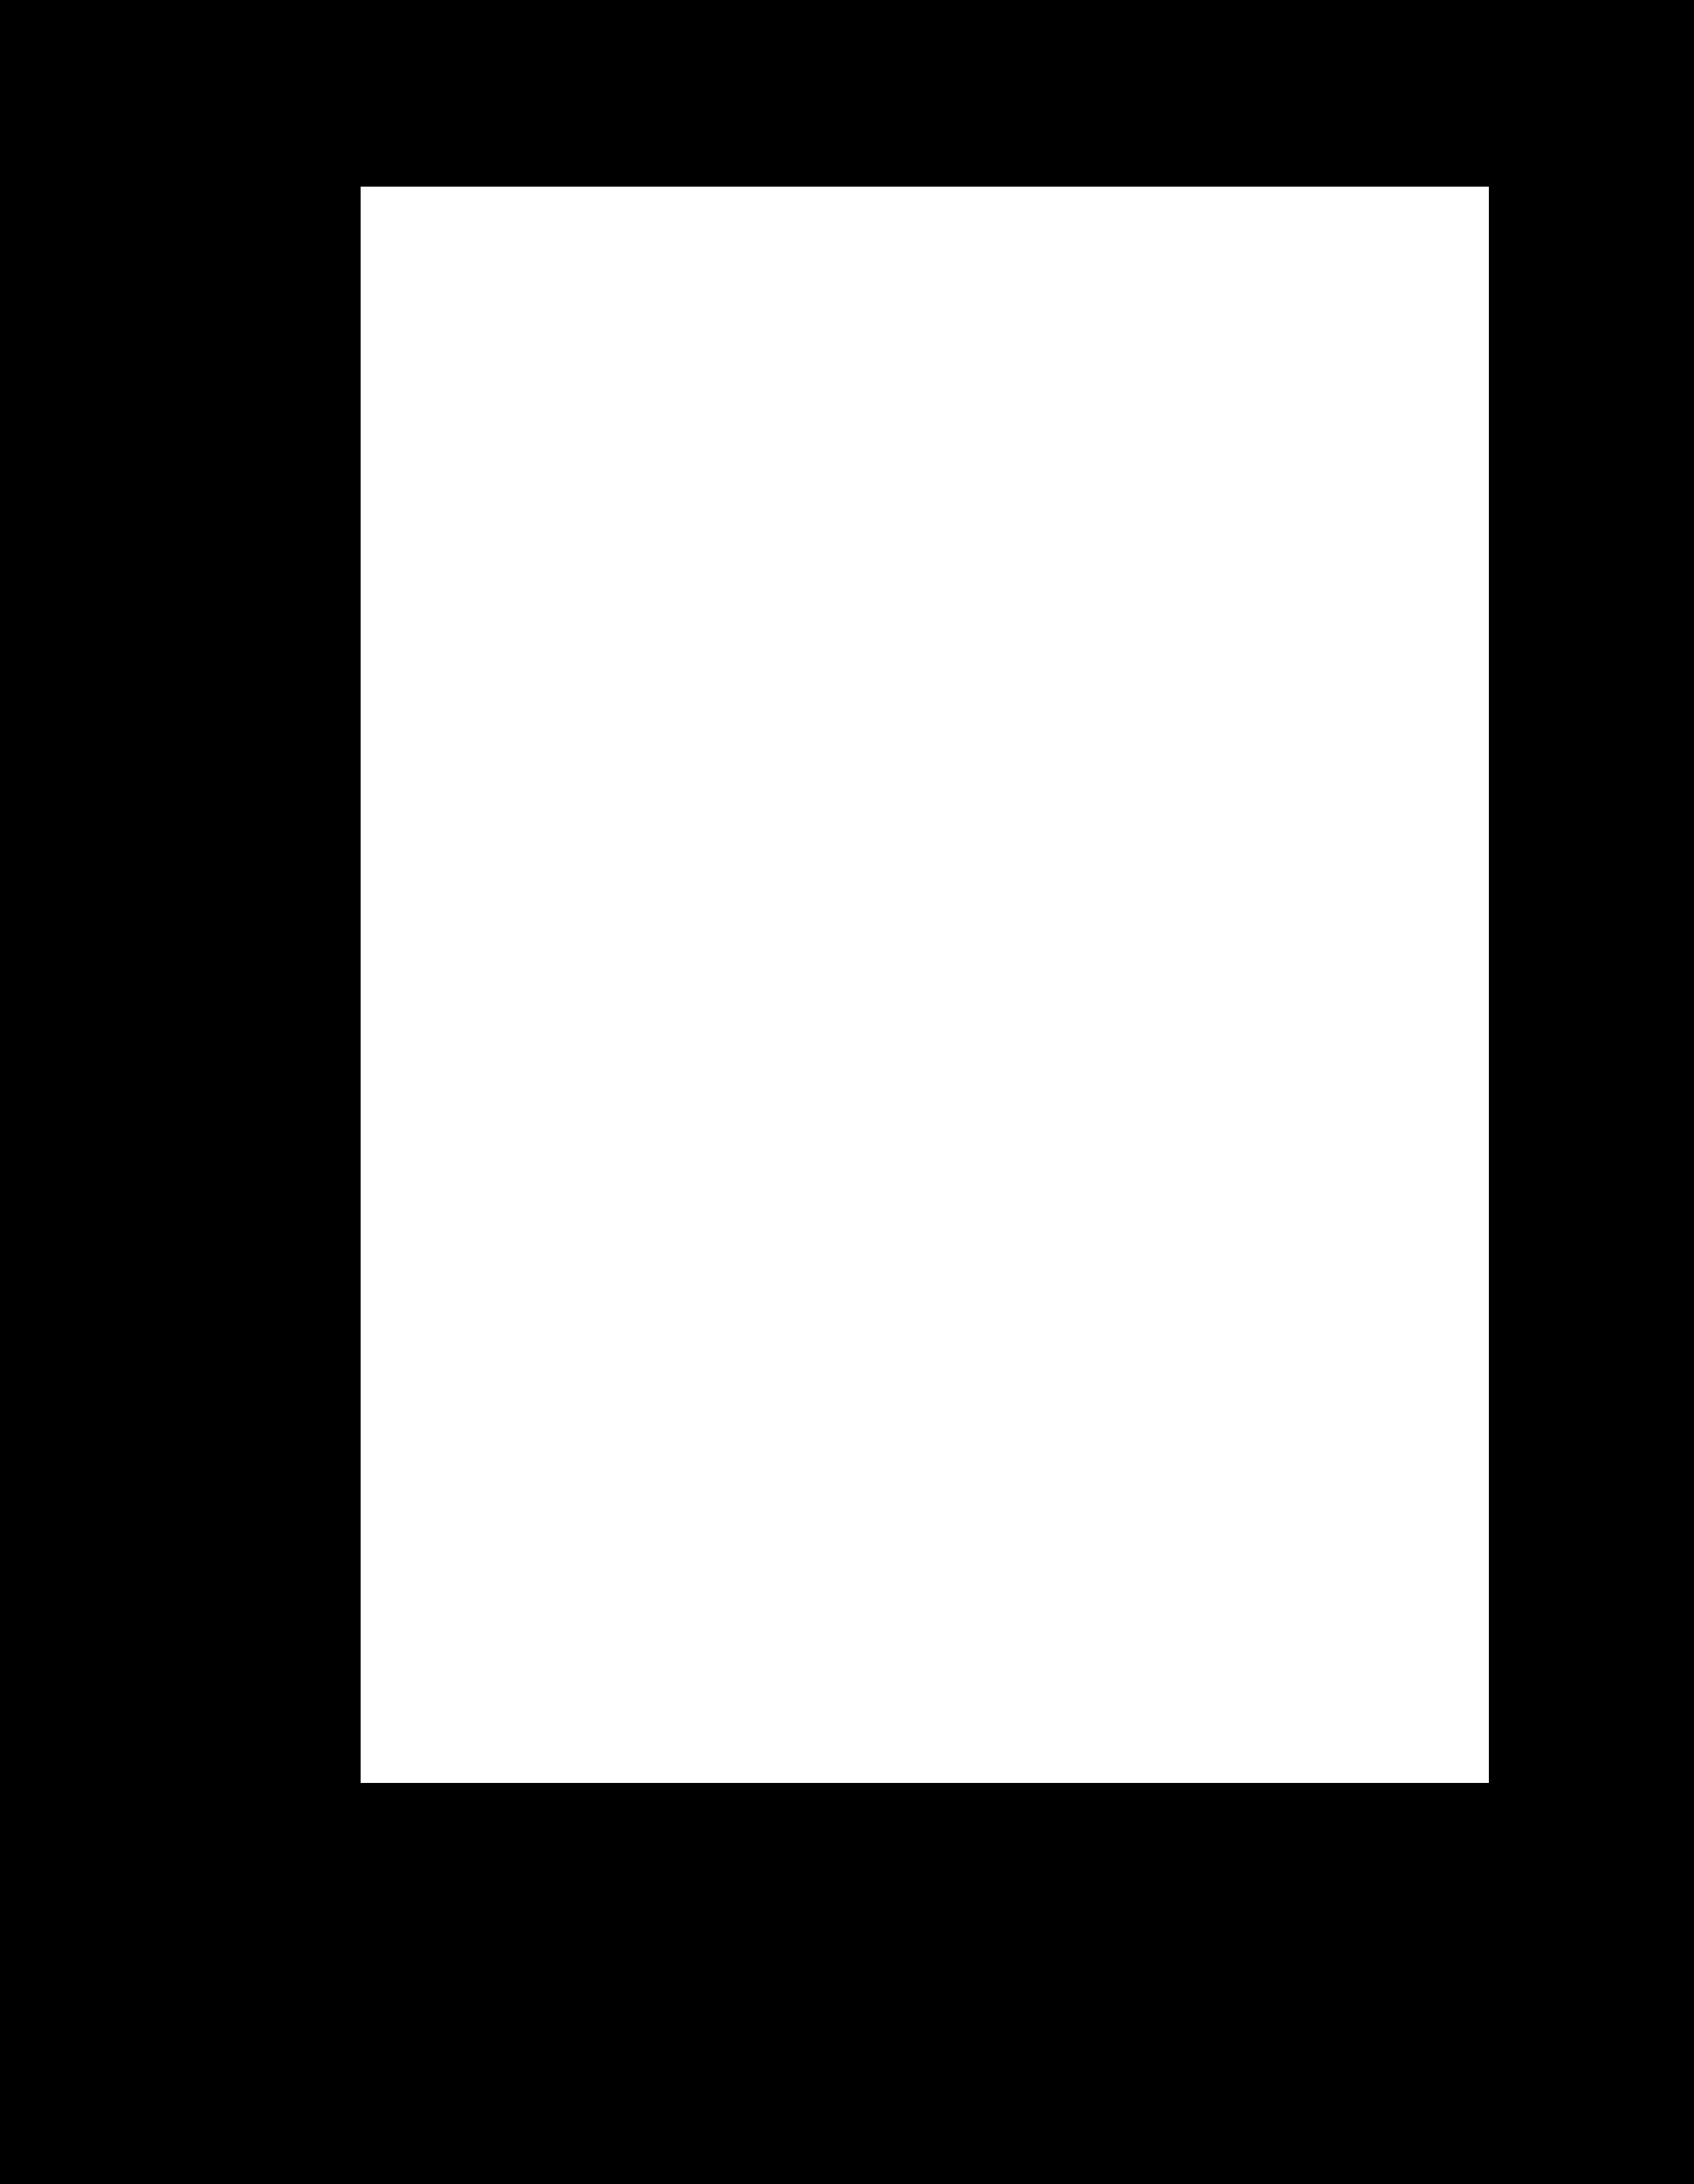table: (361, 186, 1488, 1782)
